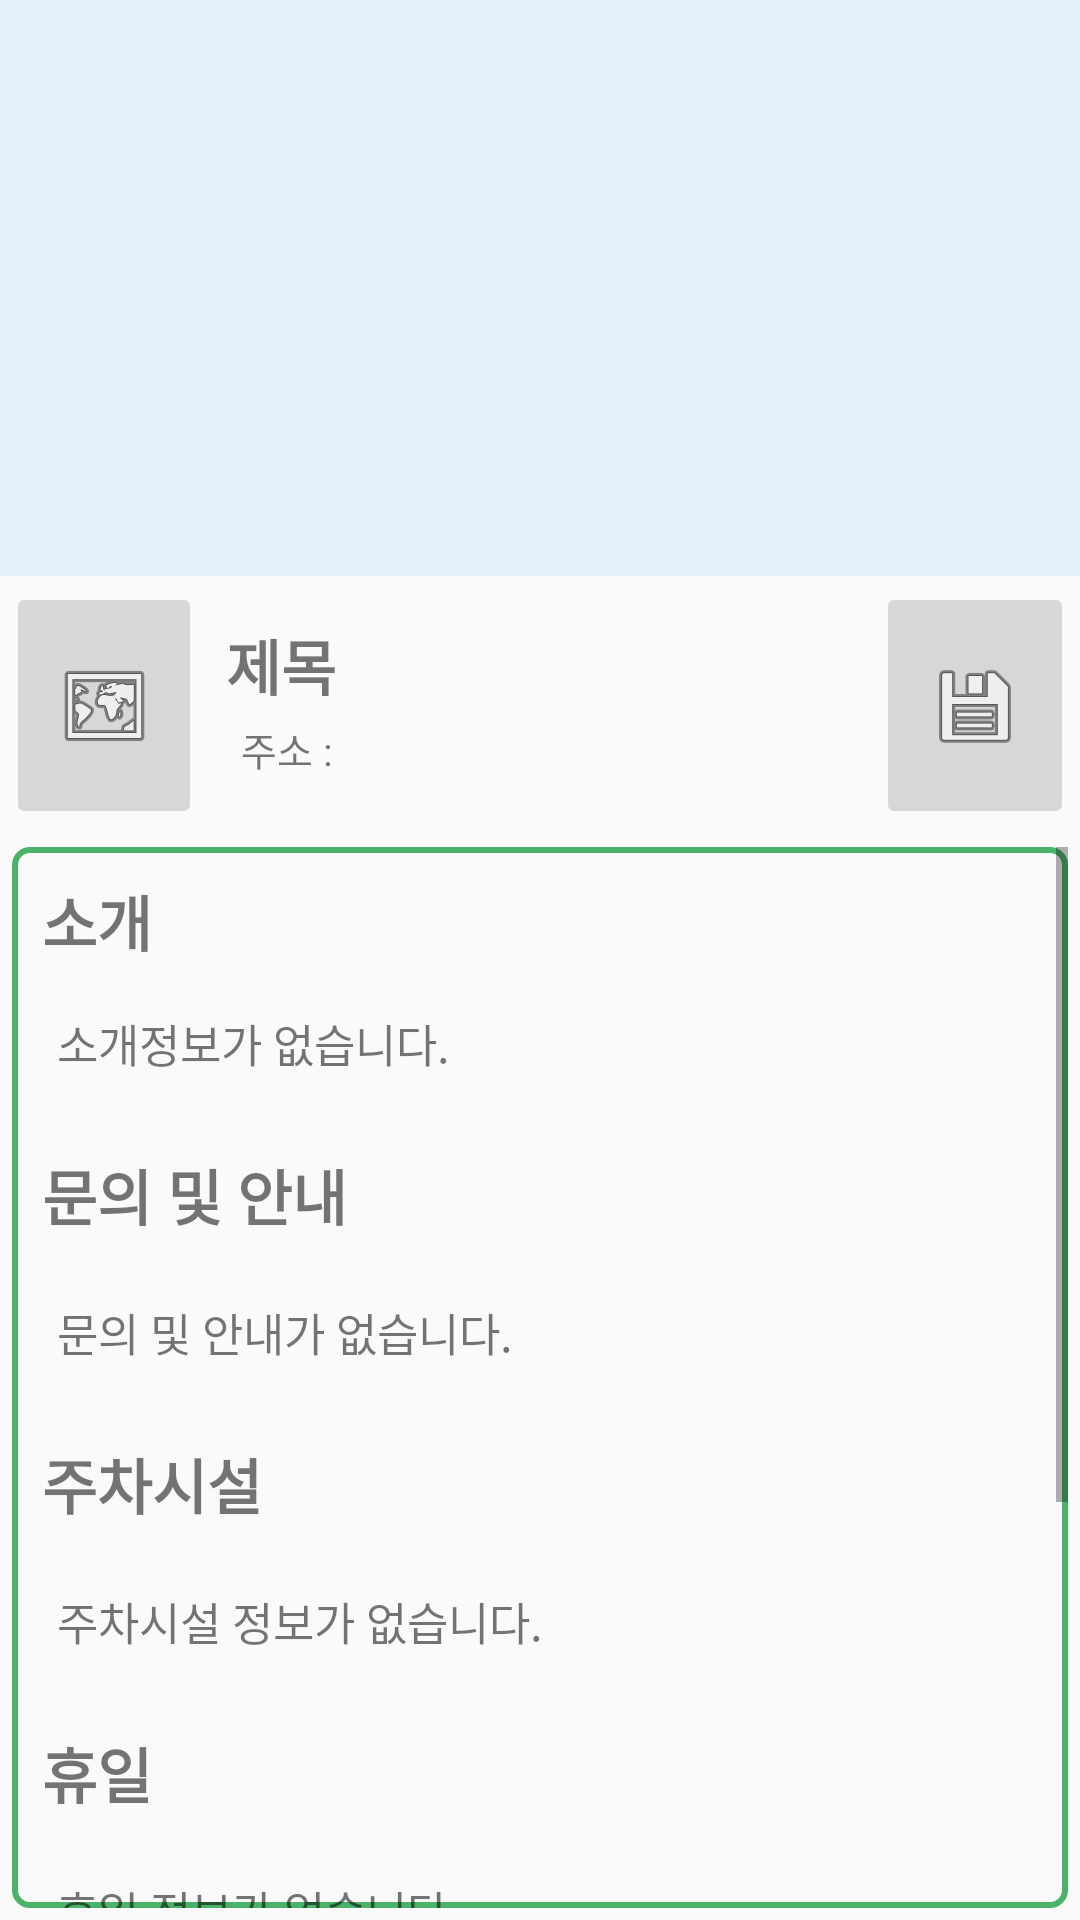

Icon bounding boxes for this 1080*1920 phone screenshot, format box(x1, y1, x2, y2):
mapmode: box(18, 600, 190, 811)
save: box(888, 600, 1062, 811)
